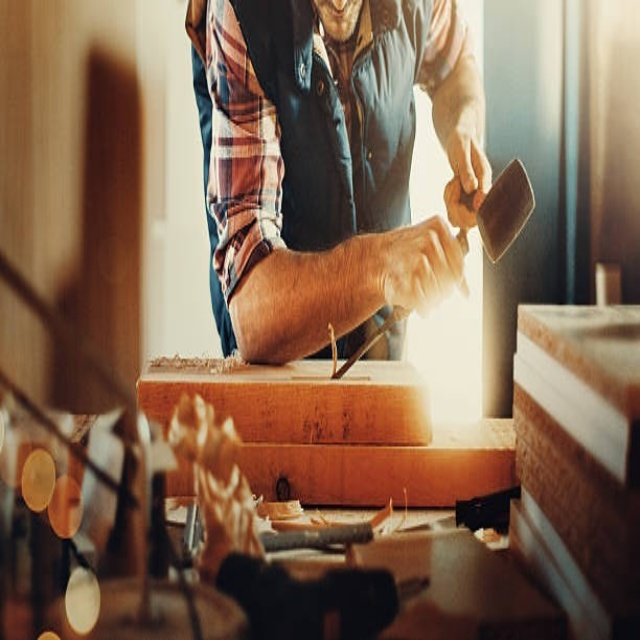Sin_guantes: (378, 212, 471, 322), (446, 122, 492, 213)
Sin_mascara: (322, 2, 356, 40)
